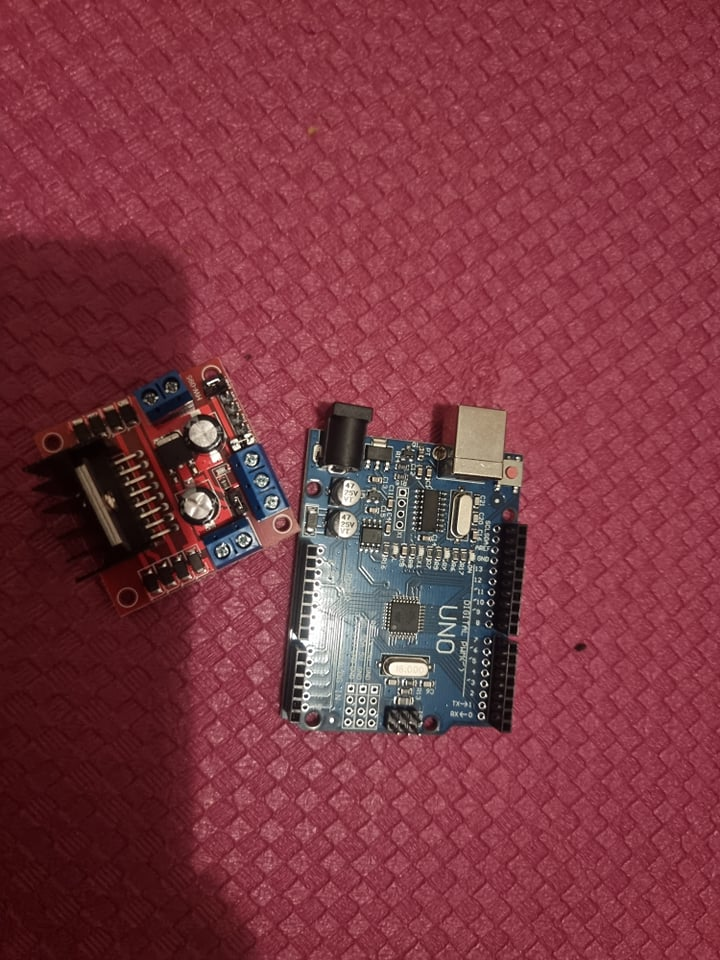MOTOR: (35, 352, 300, 627)
UNO R3: (282, 390, 524, 743)
